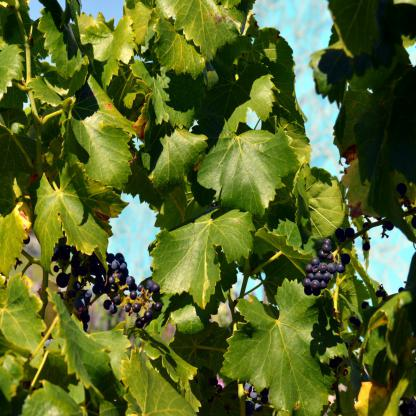grape leaf: (218, 272, 334, 402), (144, 199, 262, 309), (198, 116, 298, 221), (46, 288, 112, 410), (131, 44, 205, 130), (198, 62, 276, 137), (86, 16, 138, 86)
